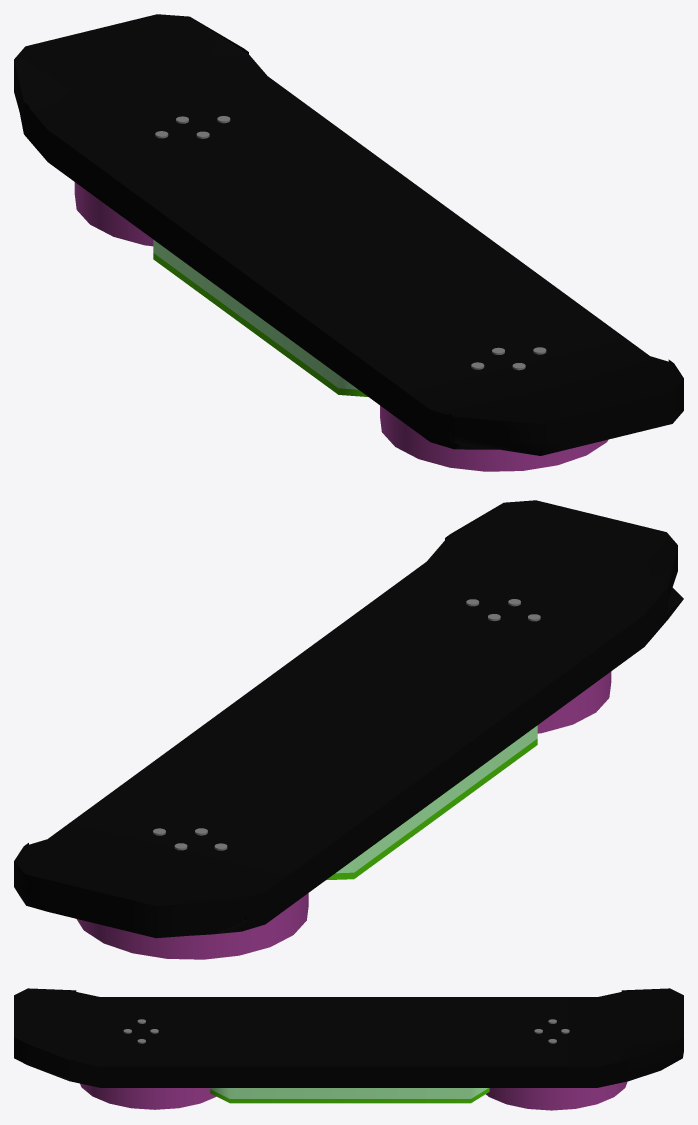
The model's file is Brd.fbx.
3 renders of one model, top to bottom at view 1: azimuth 30°, elevation 25°; view 2: azimuth 150°, elevation 25°; view 3: azimuth 270°, elevation 25°, orthographic. The views are drawn at different scales.
Visible parts, largest first — view 1: Deck_Board, pCylinder1, Side_Skirt, pCylinder2; view 2: Deck_Board, pCylinder2, Side_Skirt, pCylinder1; view 3: Deck_Board, Side_Skirt, pCylinder2, pCylinder1.
Part boxes in pixels (<box>): Deck_Board: <box>14,14,683,455</box>; pCylinder1: <box>380,405,608,471</box>; Side_Skirt: <box>153,239,367,396</box>; pCylinder2: <box>74,182,153,246</box>; Deck_Board: <box>14,500,683,938</box>; pCylinder2: <box>76,893,308,959</box>; Side_Skirt: <box>326,725,537,880</box>; pCylinder1: <box>537,671,611,733</box>; Deck_Board: <box>14,988,683,1087</box>; Side_Skirt: <box>210,1088,489,1103</box>; pCylinder2: <box>486,1081,627,1110</box>; pCylinder1: <box>80,1083,216,1109</box>.
Size of the model in its own units: 39.62 by 16 by 158.
